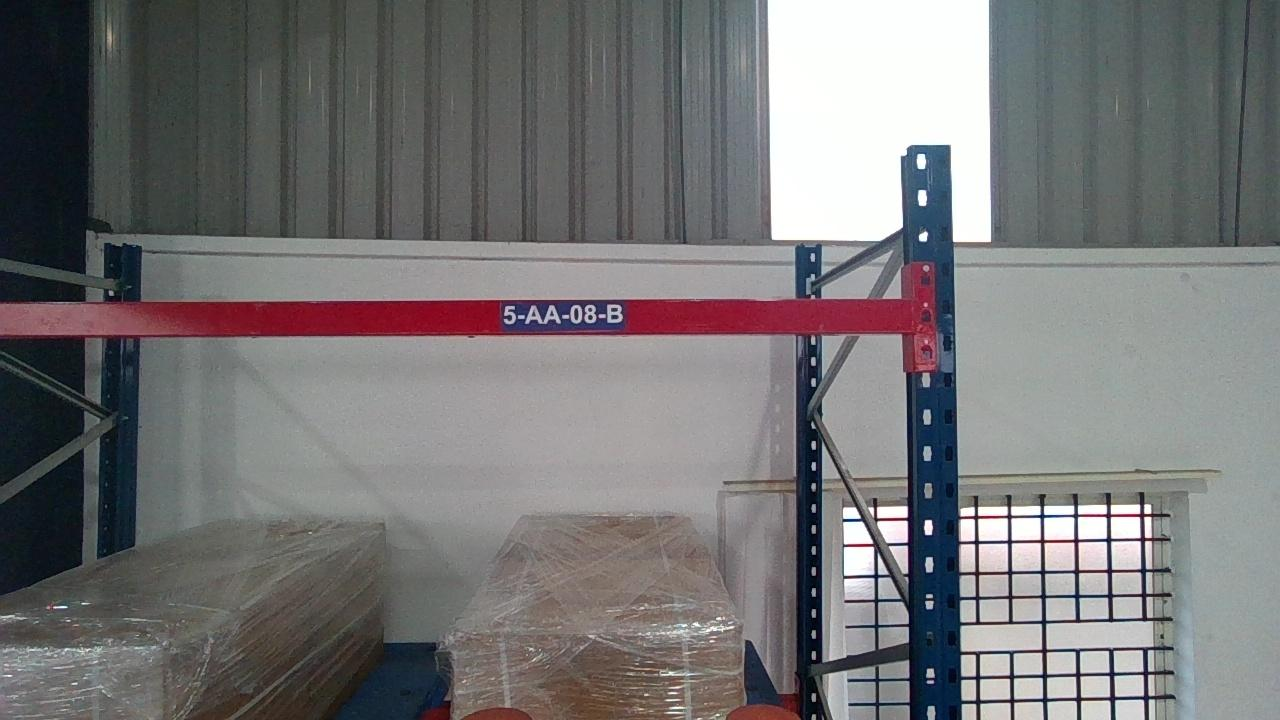h_rack: (0, 295, 913, 336)
